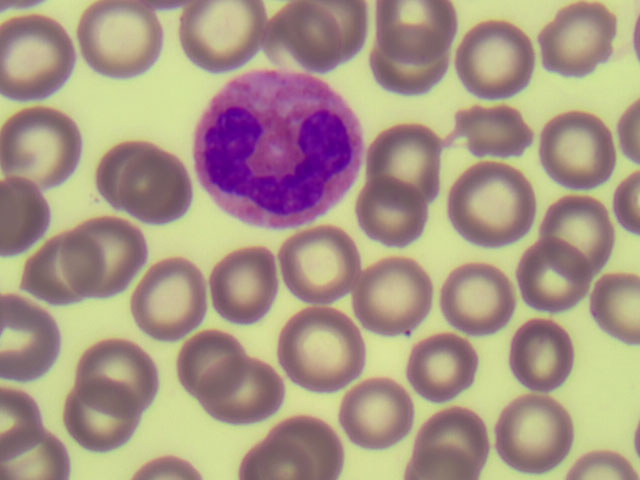RBC: (280, 305, 362, 392), (447, 167, 533, 247), (80, 5, 167, 78), (543, 3, 616, 83), (63, 221, 143, 294), (77, 339, 159, 410), (460, 22, 534, 100), (373, 121, 441, 203), (1, 21, 76, 94), (2, 116, 80, 185), (185, 2, 267, 65), (542, 116, 619, 183), (550, 196, 611, 279), (369, 29, 448, 93), (289, 2, 367, 66), (1, 294, 57, 383), (283, 229, 356, 297), (359, 266, 433, 332), (137, 262, 203, 335), (445, 264, 513, 334), (122, 154, 192, 221), (502, 399, 570, 467), (268, 5, 338, 71), (35, 231, 99, 303), (521, 243, 592, 307), (365, 181, 429, 251), (453, 104, 535, 158), (184, 332, 246, 402), (376, 1, 448, 61), (216, 246, 275, 319), (412, 332, 477, 397), (346, 384, 416, 444), (200, 365, 282, 416), (516, 319, 574, 391), (72, 386, 139, 446), (267, 421, 339, 474), (424, 413, 490, 470), (240, 432, 316, 480), (97, 143, 155, 205), (1, 177, 47, 255), (1, 431, 70, 480), (597, 275, 640, 351), (1, 393, 43, 451), (411, 446, 480, 480), (575, 454, 640, 480), (142, 456, 211, 480), (623, 100, 640, 167), (622, 171, 640, 226), (635, 421, 640, 455)
WBC: (207, 68, 359, 224)
